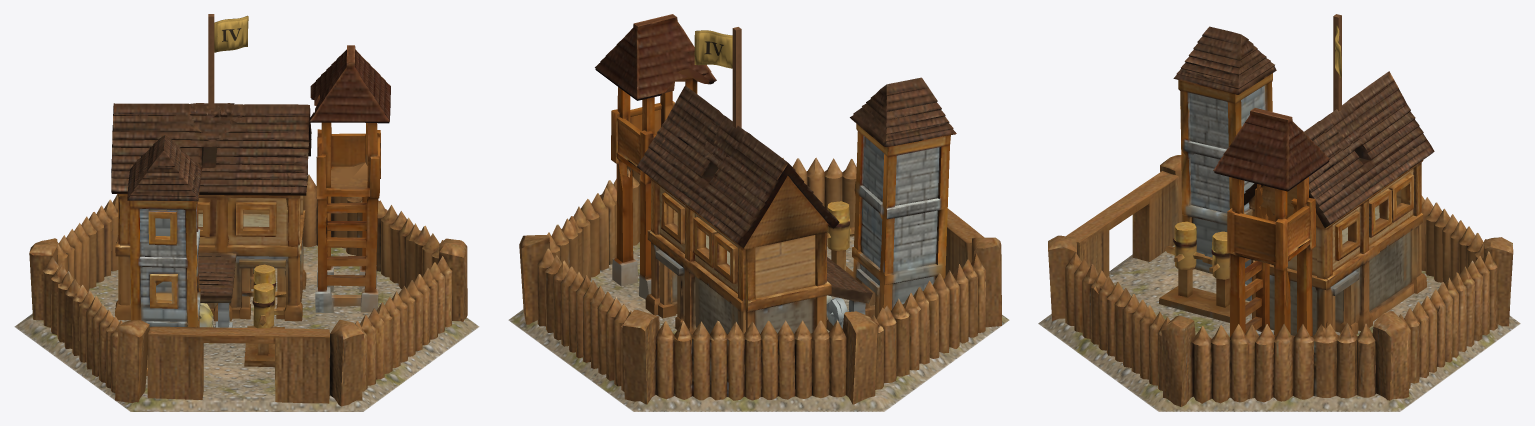
Rendered from barracks-4.glb.
3 views of the same model, side by side, from view 1: azimuth 30°, elevation 25°; view 2: azimuth 150°, elevation 25°; view 3: azimuth 270°, elevation 25° (orthographic). The views are drawn at different scales.
Visible parts, largest first — view 1: architecture, ground, tier-banner; view 2: architecture, ground, tier-banner; view 3: architecture, ground.
Boxes of the visible parts, x1=… form: architecture: x1=29, y1=14, x2=467, y2=406; ground: x1=14, y1=245, x2=479, y2=411; tier-banner: x1=214, y1=15, x2=248, y2=52; architecture: x1=519, y1=14, x2=1001, y2=404; ground: x1=508, y1=236, x2=1009, y2=411; tier-banner: x1=694, y1=30, x2=732, y2=68; architecture: x1=1048, y1=14, x2=1513, y2=406; ground: x1=1038, y1=245, x2=1520, y2=411.
Bounding box in the file's own units: 1.61 × 1.28 × 1.84.
3 materials, 3 textured.
